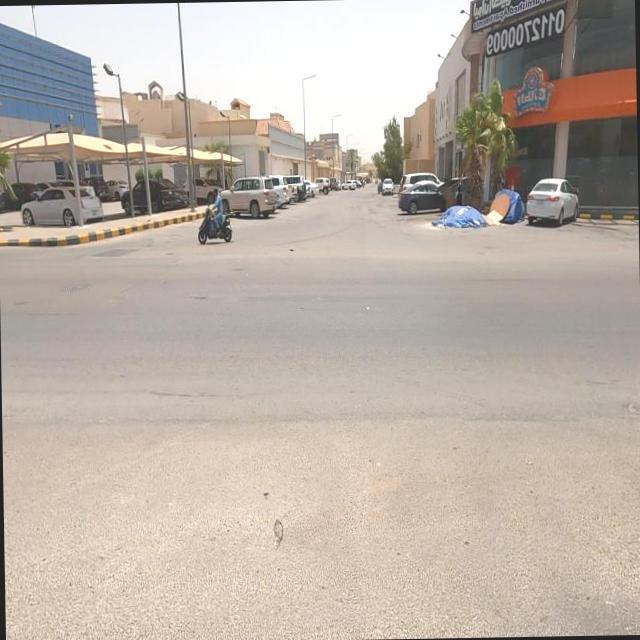debris: (409, 164, 517, 274), (462, 150, 552, 274)
